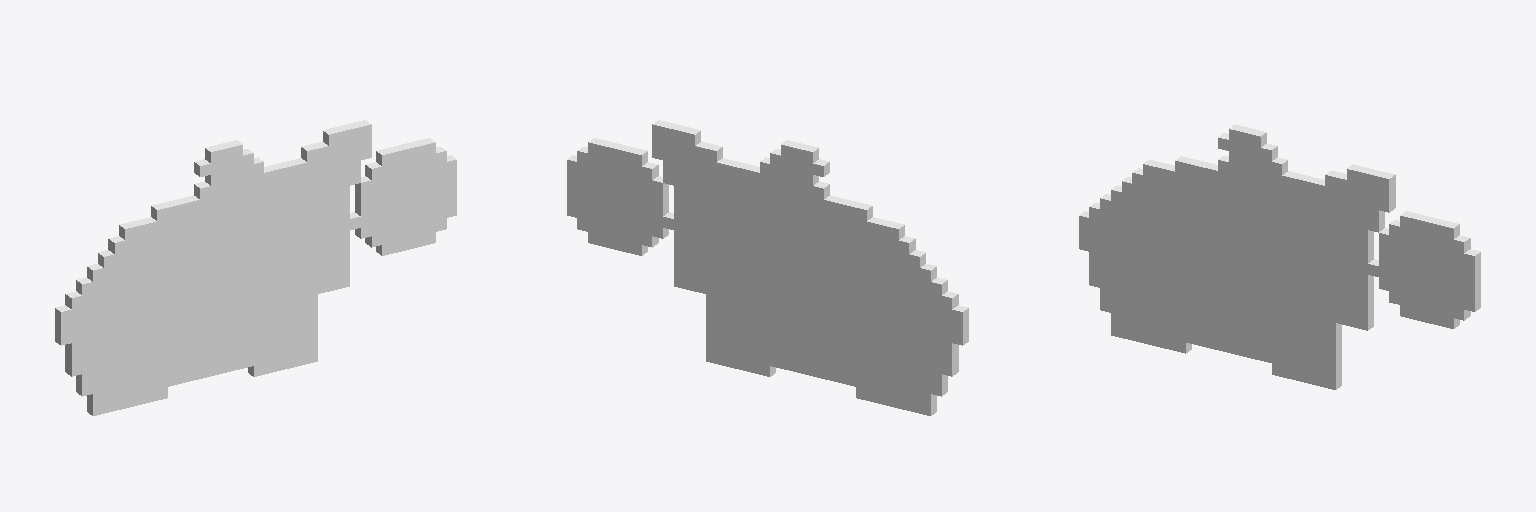
Rendered from potato_sleep.obj.
3 renders of one model, left to right at view 1: azimuth 30°, elevation 25°; view 2: azimuth 150°, elevation 25°; view 3: azimuth 330°, elevation 25°, orthographic.
Parts seen in each view (by area): view 1: object 1; view 2: object 1; view 3: object 1.
Boxes of the visible parts, box(x1,y1,x2,y2) form: object 1: box(55, 120, 456, 415); object 1: box(567, 120, 968, 415); object 1: box(1079, 124, 1480, 389).
Bounding box in the file's own units: 3.7 × 2.1 × 0.1.